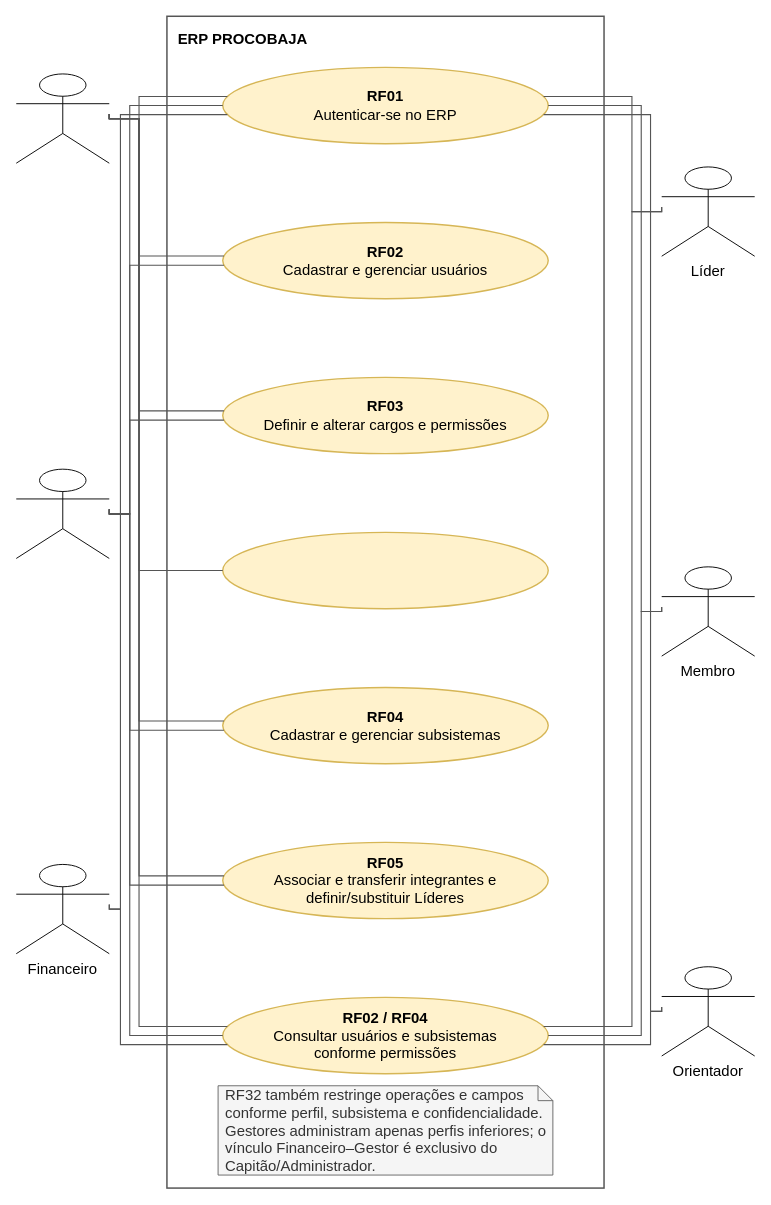
This 771x1205 diagram has some shape labels left out. Each missing label, with the centre of its shape:
"Capitão / Administrador" belongs at point 62,118.
"Gestor" belongs at point 62,513.
"RF03 Definir, alterar ou remover vínculo Financeiro–Gestor" belongs at point 385,570.
